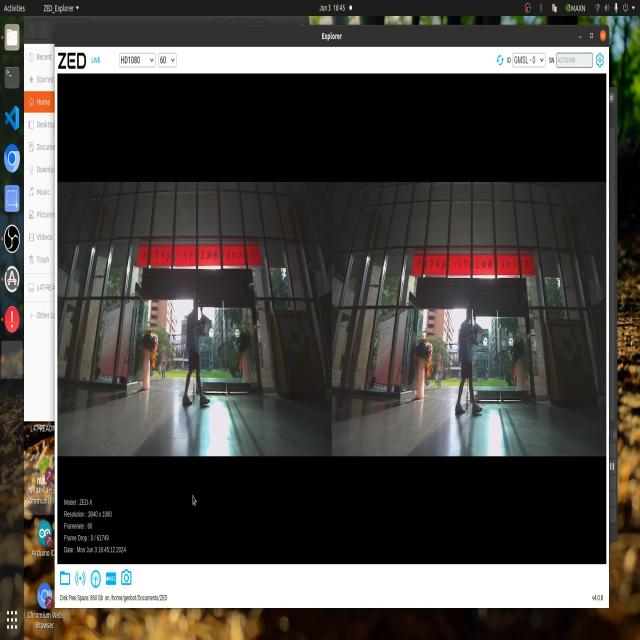blue: (468, 327, 484, 352), (197, 319, 210, 345)
